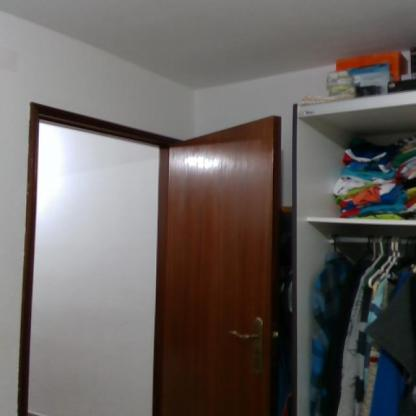door: (15, 99, 290, 415)
